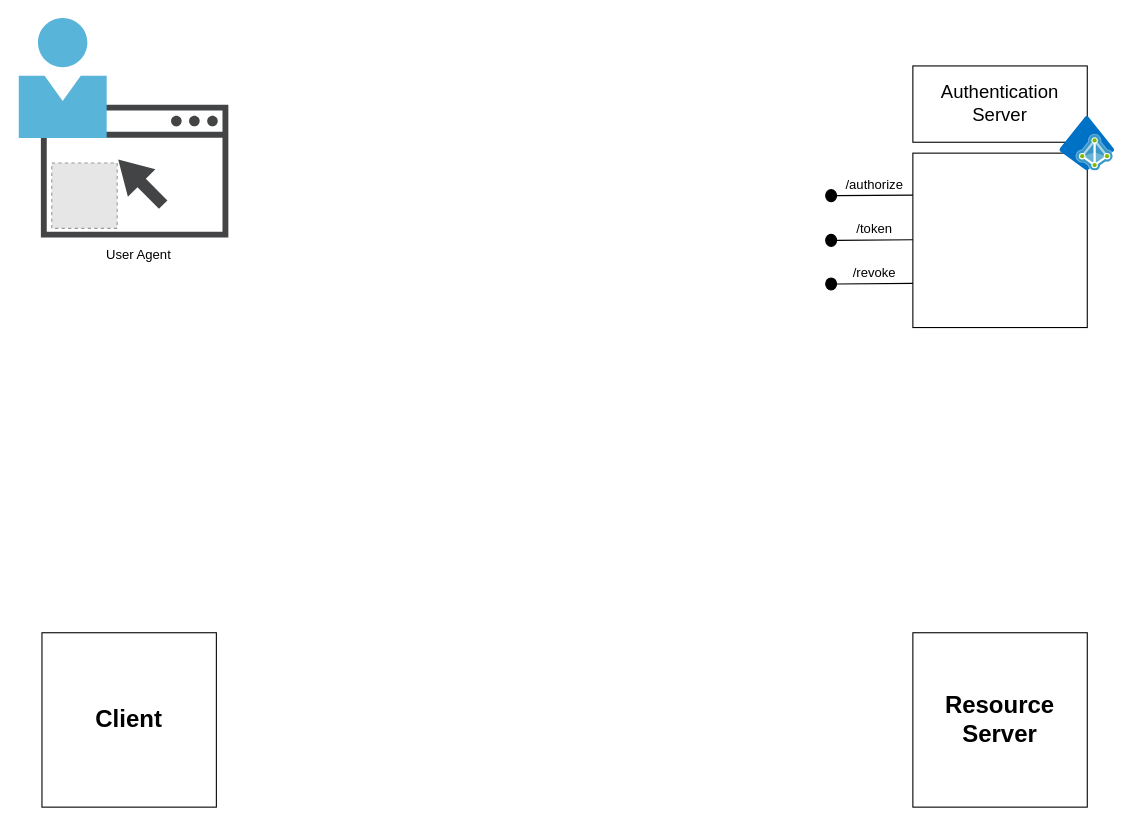
The diagram is 1133 pixels wide and 826 high, and some of its shapes have lost their labels. Grey dashed boxes stand in for pictures. The shapes that lost their labels are listed below. From the top down, each one's centre as x and y in pixels, then its label:
At (63,78): "RO".
At (999,240): "Authorization Server".
